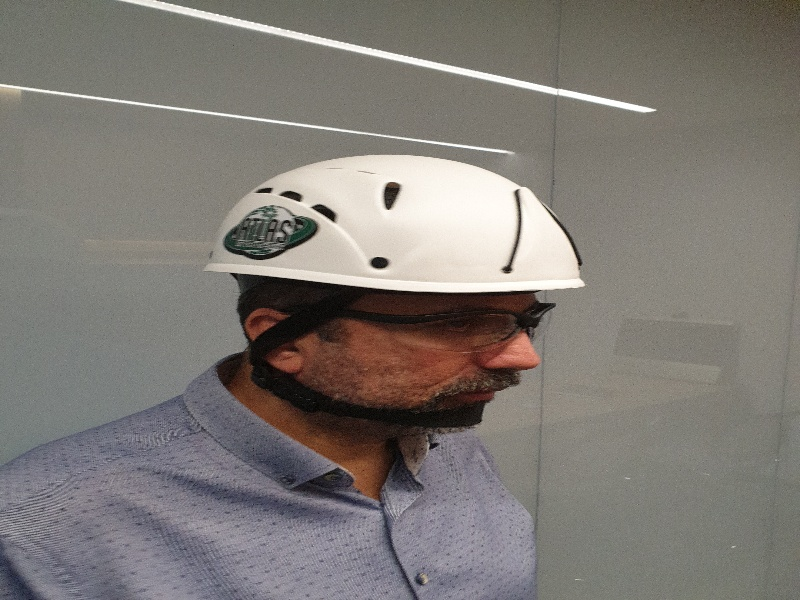Baret: (204, 155, 586, 290)
Gozluk: (311, 302, 562, 347)
